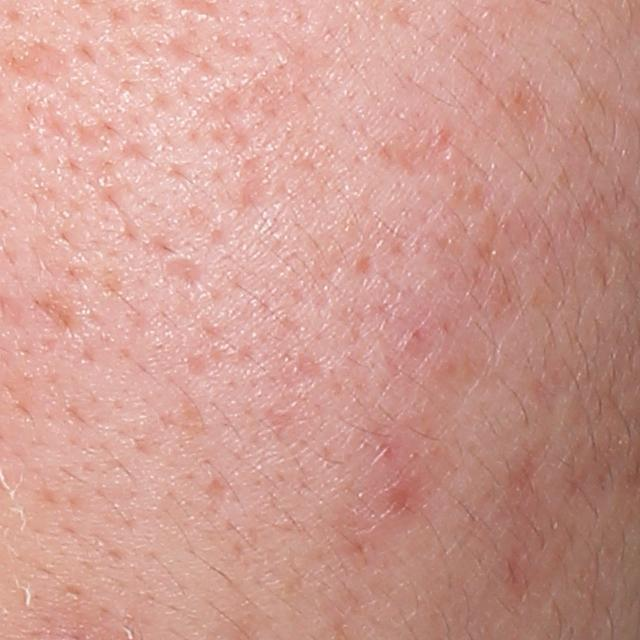atrophic_scar: (374, 120, 468, 187), (194, 82, 256, 128), (235, 151, 276, 212), (161, 28, 214, 69), (157, 250, 203, 295), (349, 249, 376, 278)
